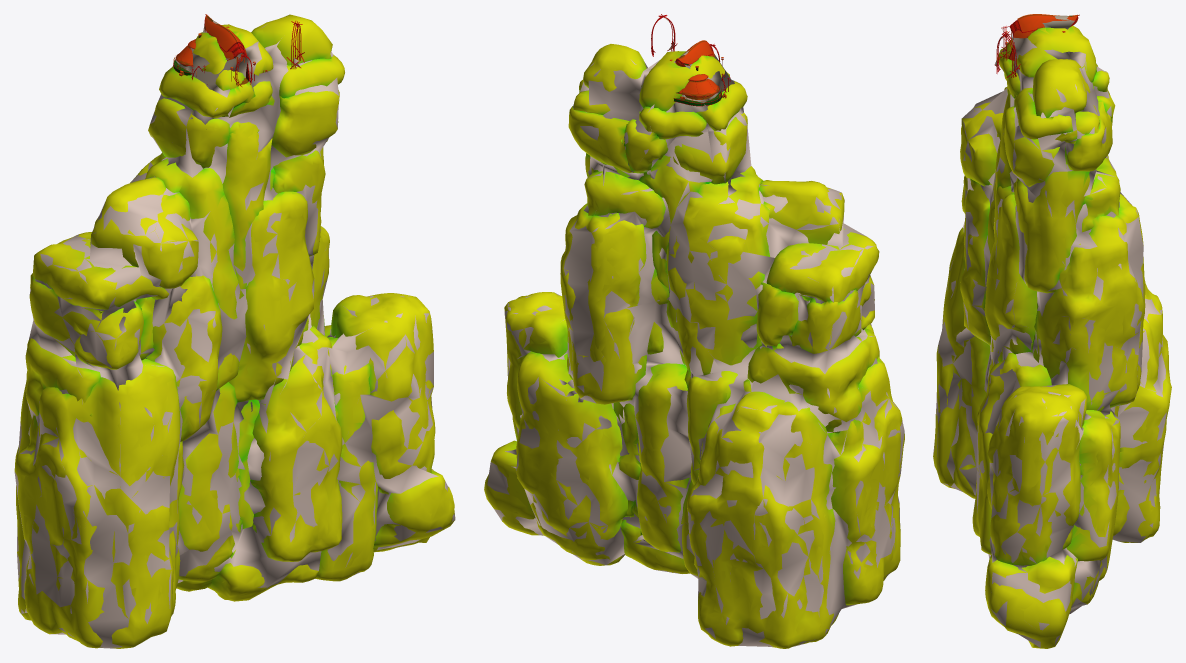
The model's file is WarpStoneD.glb.
3 views of the same model, side by side, from view 1: azimuth 30°, elevation 25°; view 2: azimuth 150°, elevation 25°; view 3: azimuth 270°, elevation 25° (orthographic). The views are drawn at different scales.
Parts seen in each view (by area): view 1: L0, L2, L1; view 2: L0, L2, L1; view 3: L0, L2, L1.
Boxes of the visible parts, left/top/right/bottom form: L0: left=14, top=14, right=454, bottom=648; L2: left=14, top=19, right=455, bottom=648; L1: left=15, top=15, right=453, bottom=643; L0: left=484, top=14, right=904, bottom=648; L2: left=487, top=17, right=904, bottom=647; L1: left=484, top=15, right=904, bottom=648; L0: left=933, top=14, right=1171, bottom=648; L2: left=933, top=15, right=1166, bottom=647; L1: left=934, top=15, right=1171, bottom=647.
Size of the model in its own units: 123 by 168 by 63.21.
